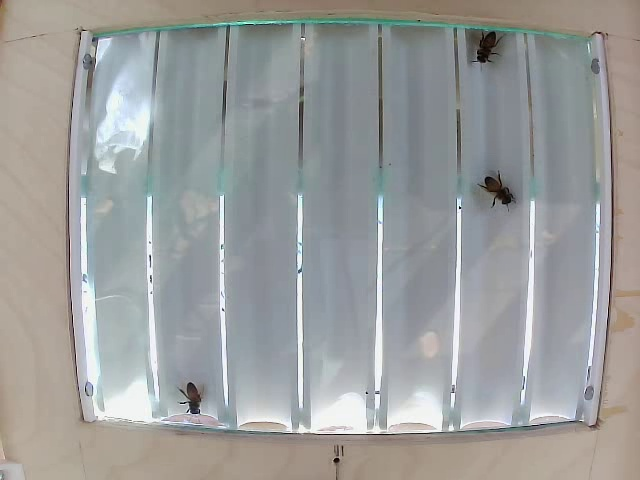bee: (475, 164, 517, 212), (176, 372, 215, 420), (473, 24, 504, 67)
